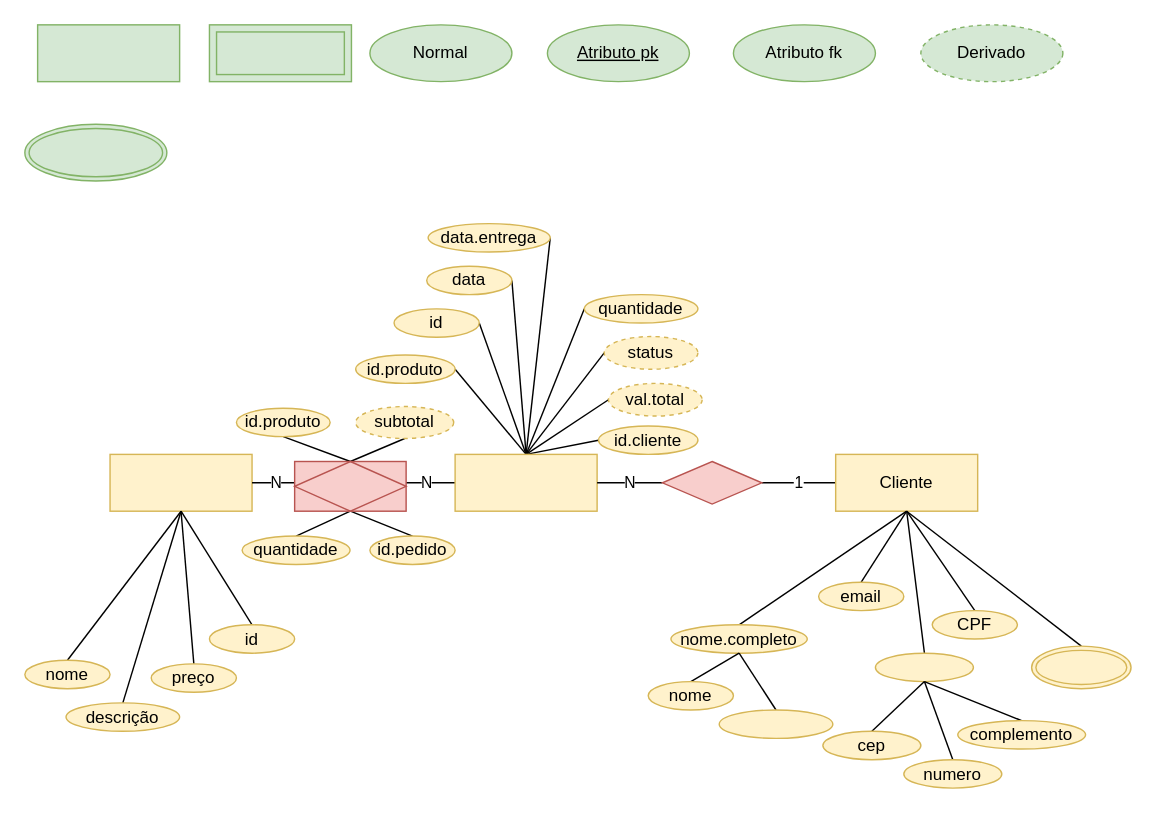
The diagram is 1156 pixels wide and 814 high, and some of its shapes have lost their labels. The shapes that lost their labels are listed below. From the top down, each one's centre as x and y in pixels, then its label:
the point at 108,52: Entidade
the point at 279,52: Entidade fraca
the point at 95,152: Multivalorado
the point at 180,482: Produto
the point at 349,485: possui
the point at 525,482: Pedido
the point at 711,482: faz
the point at 923,667: endereço
the point at 1080,667: telefone
the point at 775,723: sobrenome
